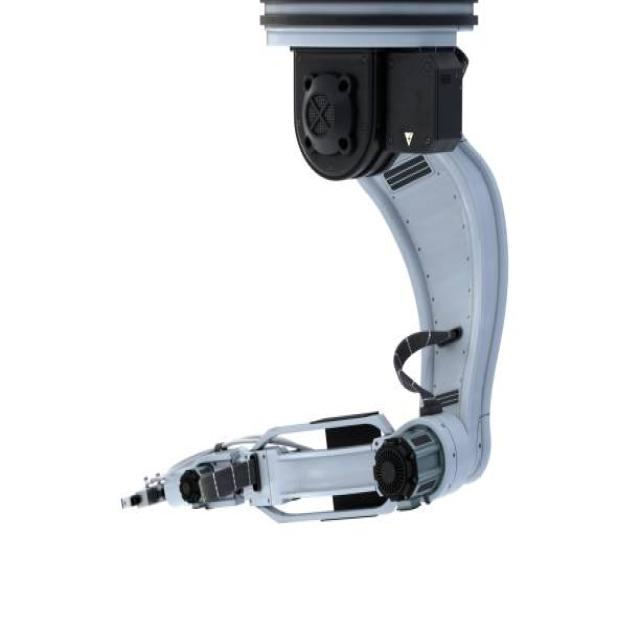Robotic-arm: (114, 2, 512, 530)
